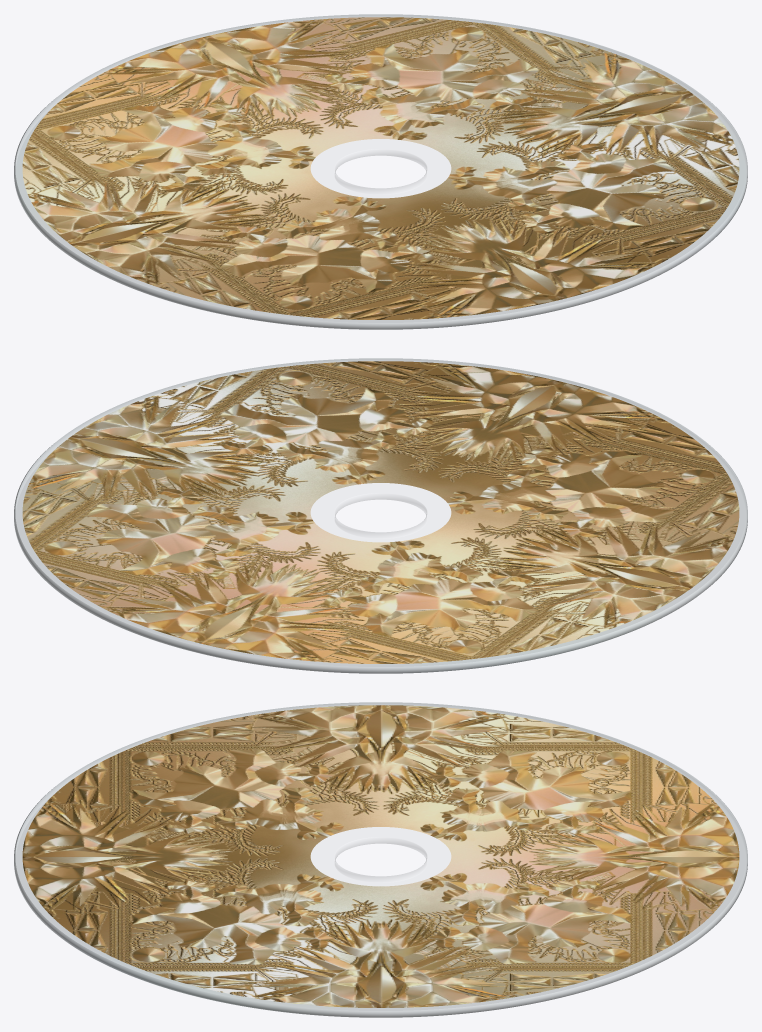
The model's file is 06_watch_the_throne.glb.
3 renders of one model, top to bottom at view 1: azimuth 30°, elevation 25°; view 2: azimuth 150°, elevation 25°; view 3: azimuth 270°, elevation 25°, orthographic.
Parts seen in each view (by area): view 1: Watch the Throne · complete CD; view 2: Watch the Throne · complete CD; view 3: Watch the Throne · complete CD.
Boxes of the visible parts, x1,y1,x2,y2 form: Watch the Throne · complete CD: (14,14,747,329); Watch the Throne · complete CD: (14,358,747,673); Watch the Throne · complete CD: (14,702,747,1017).
Size of the model in its own units: 0.12 by 0.00132 by 0.12.
5 materials, 2 textured.
